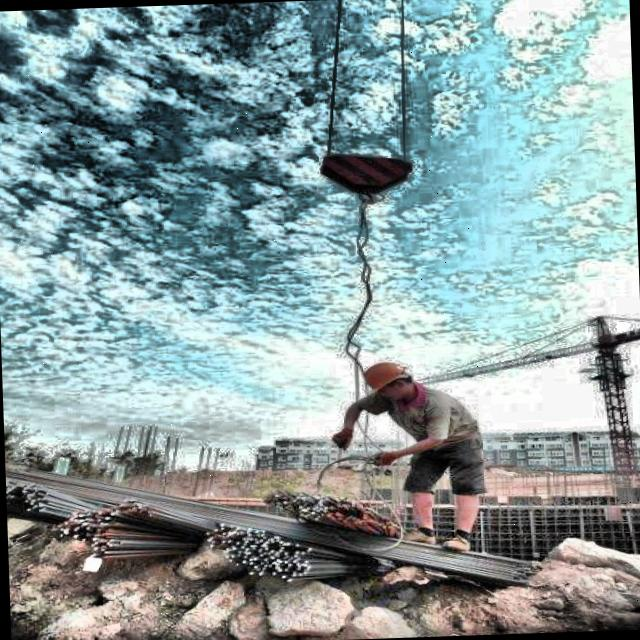helmet: (359, 354, 423, 412)
